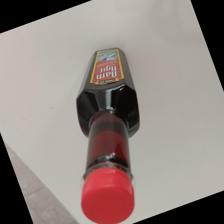Namngu: (74, 45, 145, 224)
